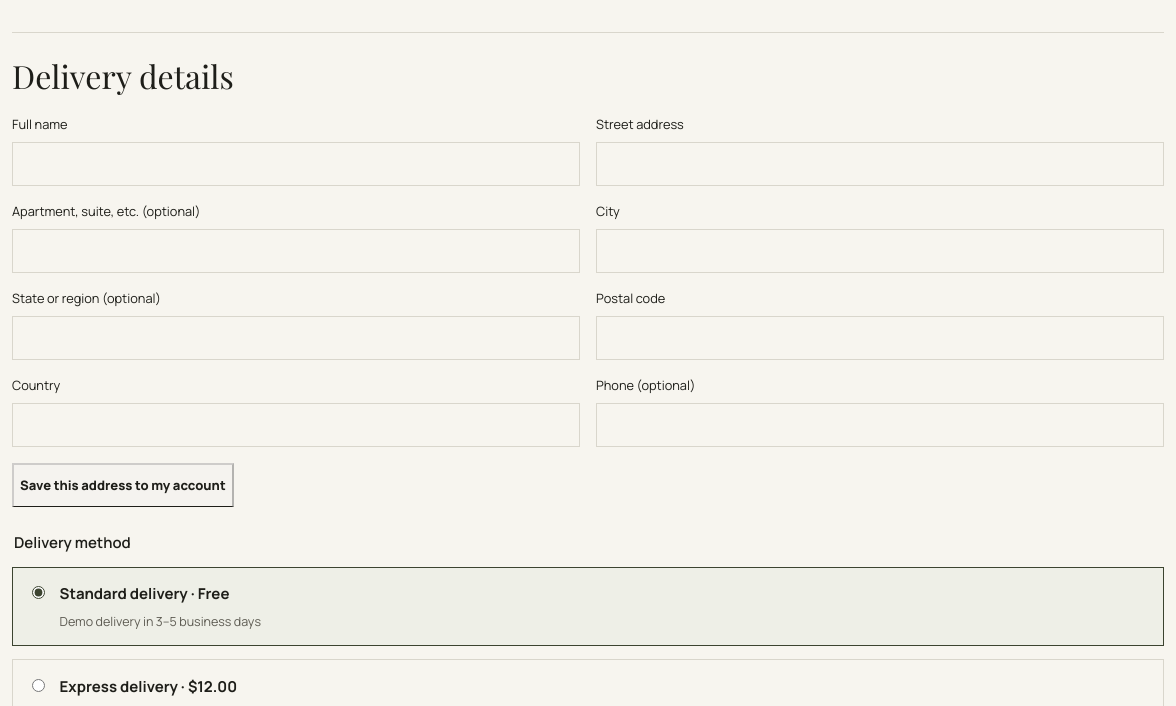
Test: checkout retries an unconfirmed address write with the same document ID
Type "Test shopper" into the field labelled "Full name" at (296, 164), box [12,142,580,186]
Type "1 Test Street" into the field labelled "Street address" at (880, 164), box [596,142,1164,186]
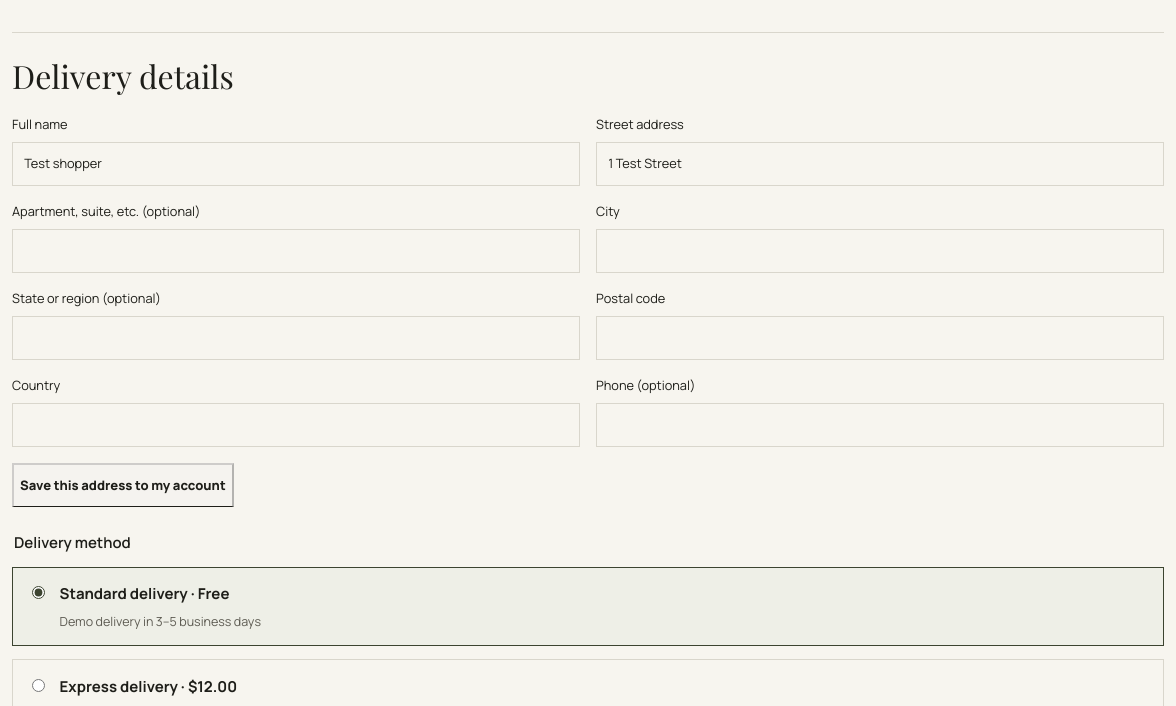
Type "Sydney" into the field labelled "City" at (880, 251), box [596,229,1164,273]
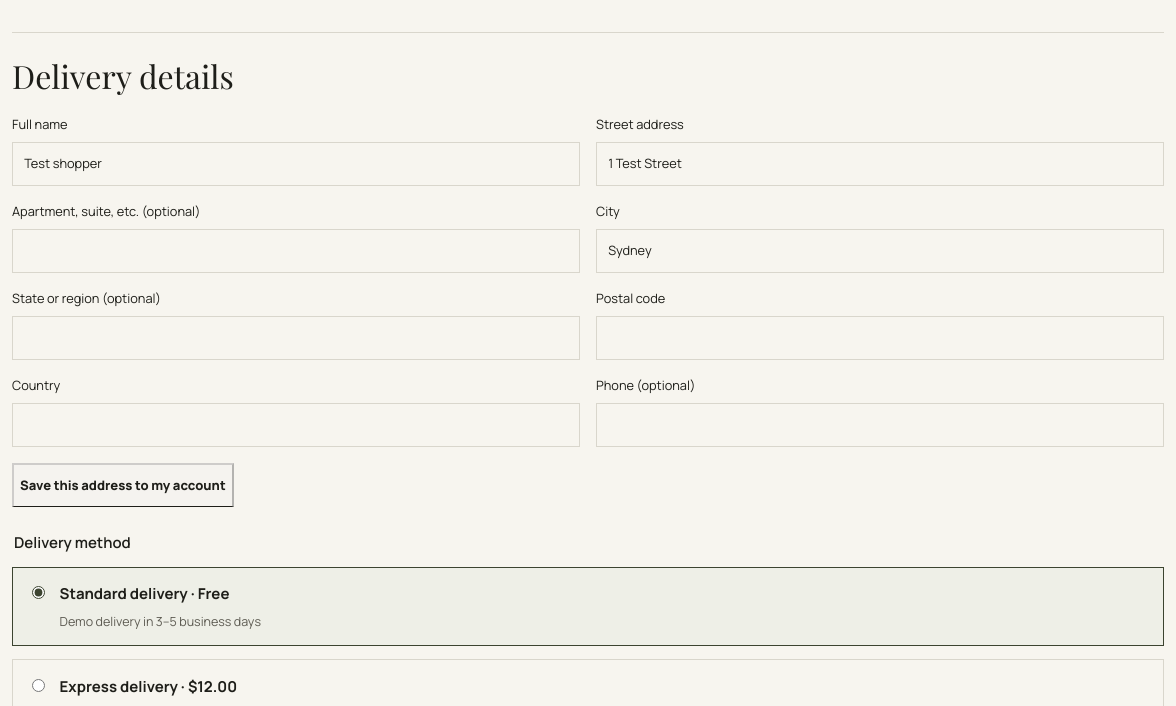
Type "2000" into the field labelled "Postal code" at (880, 338), box [596,316,1164,360]
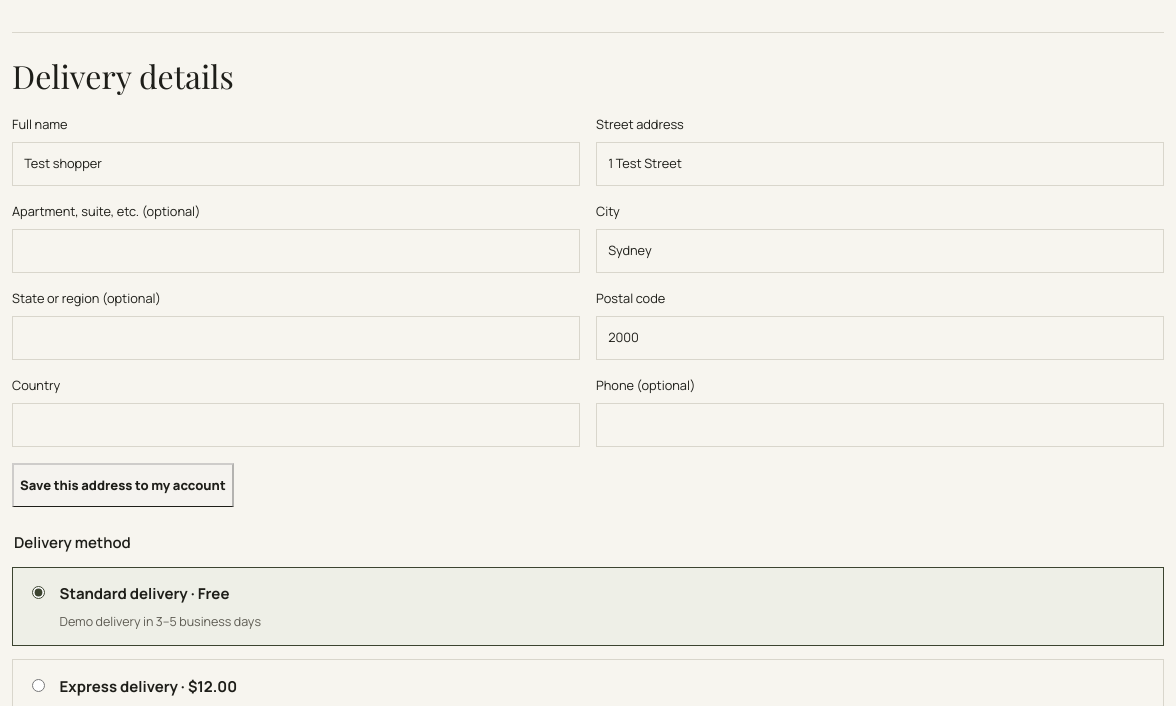
Type "Australia" into the field labelled "Country" at (296, 425), box [12,403,580,447]
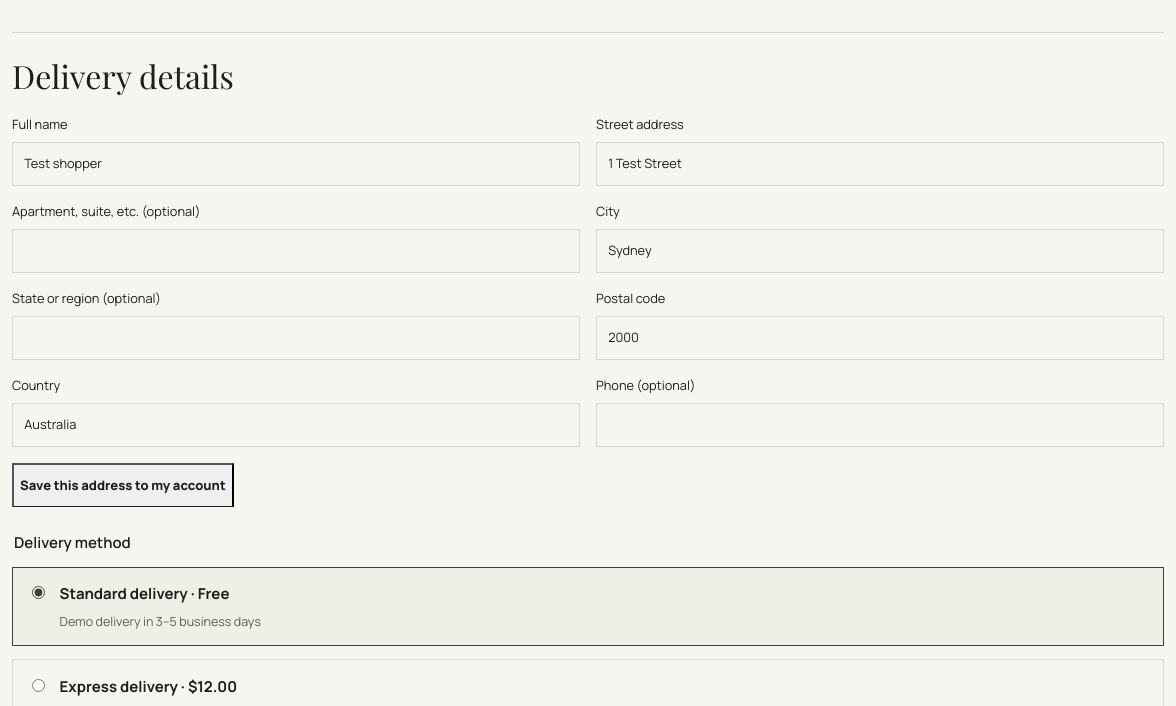
Click the button "Save this address to my account" at (123, 485), box [12,463,234,507]
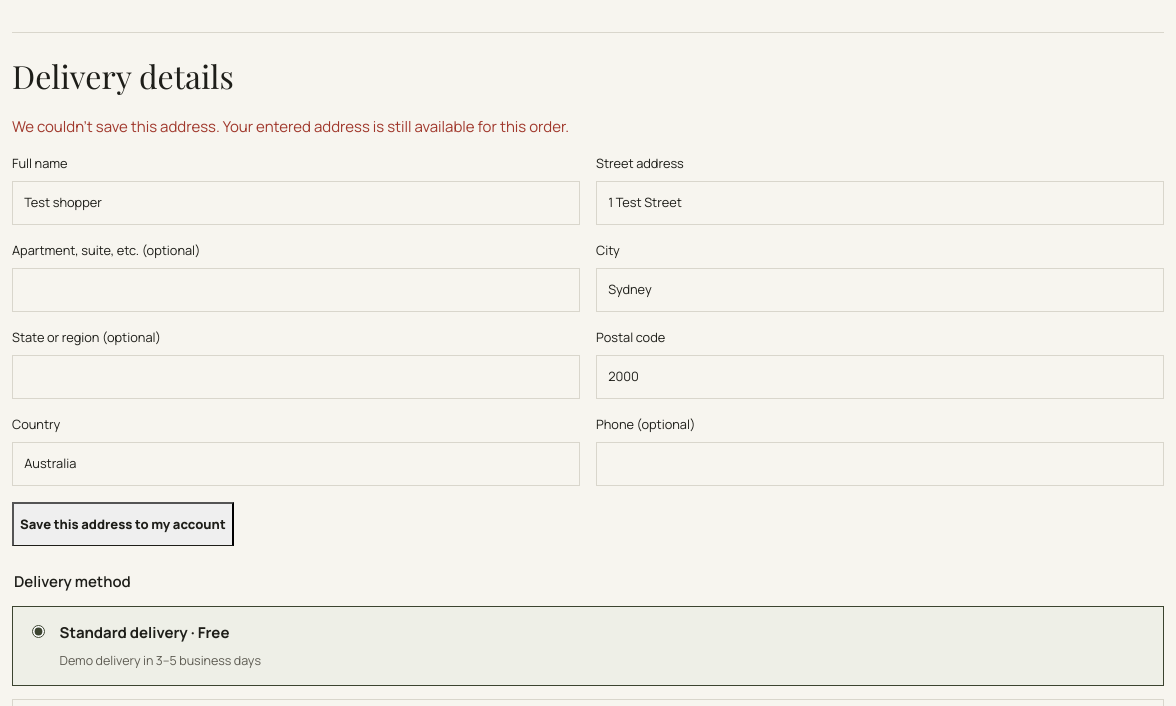
Check: the message shows "We couldn’t save this address", box [12,116,569,137]
Click the button "Save this address to my account" at (123, 524), box [12,502,234,546]
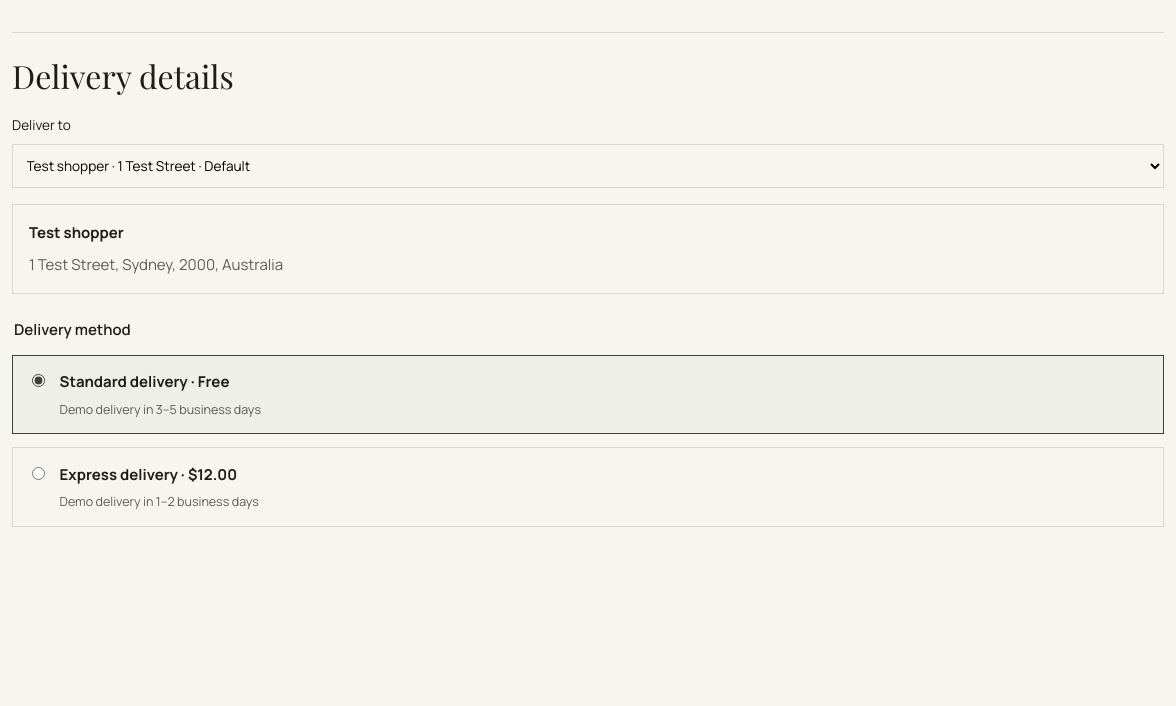
Check: the dropdown labelled "Deliver to" shows "Test shopper · 1 Test Street · Default", box [12,144,1164,188]
